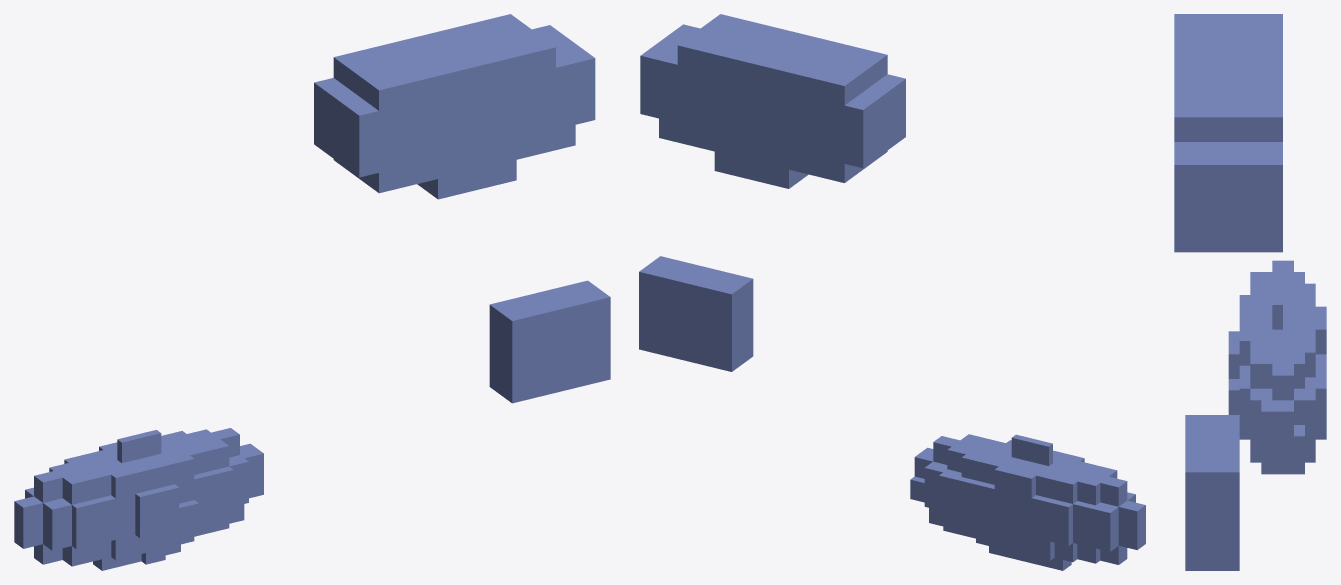
3 renders of one model, left to right at view 1: azimuth 30°, elevation 25°; view 2: azimuth 150°, elevation 25°; view 3: azimuth 270°, elevation 25°, orthographic. The views are drawn at different scales.
Parts seen in each view (by area): view 1: world; view 2: world; view 3: world.
Part boxes in pixels (bbox=[...]): world: bbox=[14, 14, 610, 570]; world: bbox=[639, 14, 1145, 570]; world: bbox=[1174, 14, 1326, 570].
Size of the model in its own units: 4.38 by 3.44 by 0.875.
